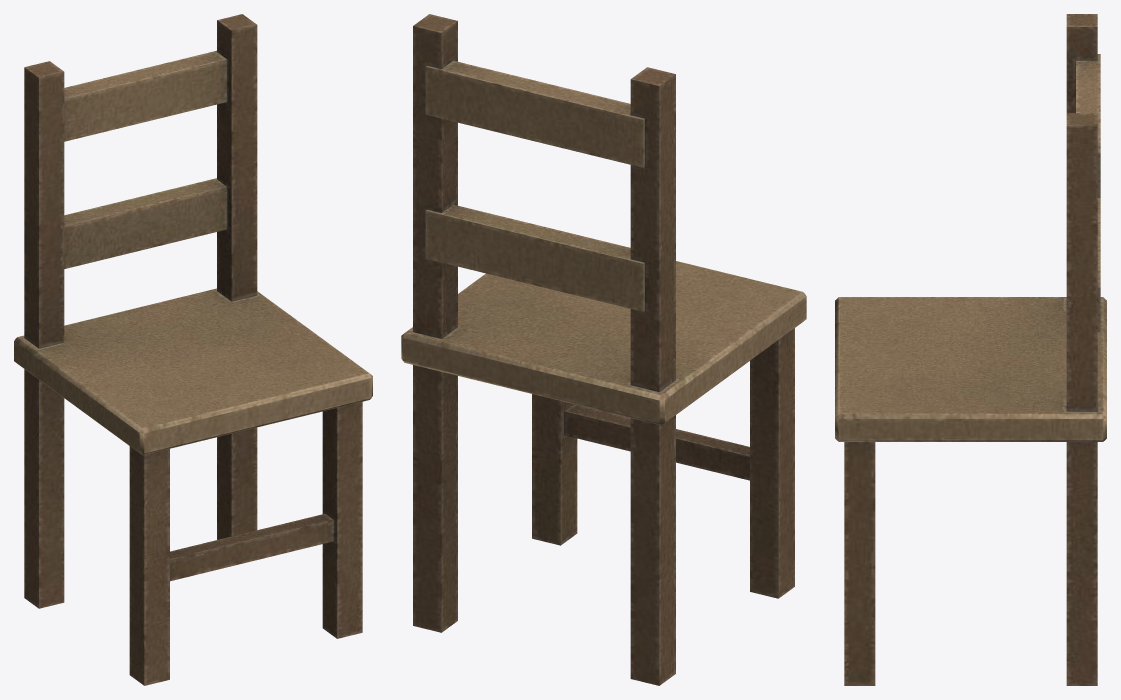
File: cadeira.glb
3 views of the same model, side by side, from view 1: azimuth 30°, elevation 25°; view 2: azimuth 150°, elevation 25°; view 3: azimuth 270°, elevation 25° (orthographic). The views are drawn at different scales.
Visible parts, largest first — view 1: cadeira; view 2: cadeira; view 3: cadeira.
Part boxes in pixels (x1,y1,x2,y2): cadeira: (14, 14, 372, 685); cadeira: (401, 14, 806, 685); cadeira: (835, 14, 1106, 685).
Bounding box in the file's own units: 0.46 × 1 × 0.44.
Materials: 1 (1 with a texture image).
